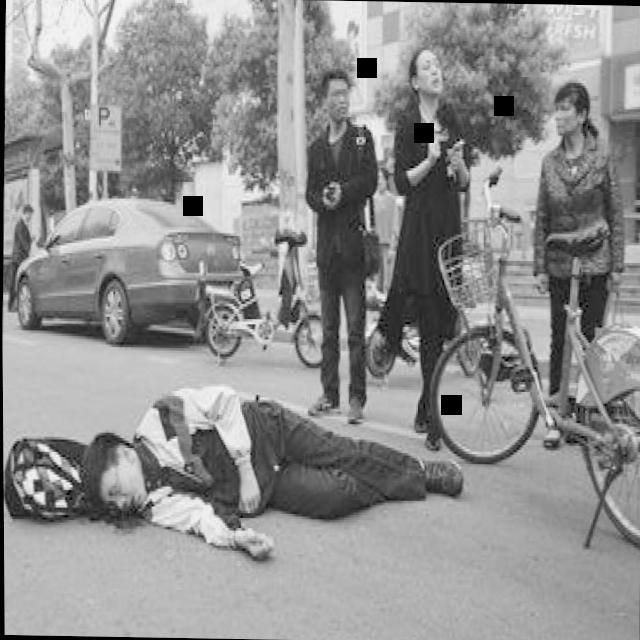Fall-Detected: (48, 363, 468, 554)
